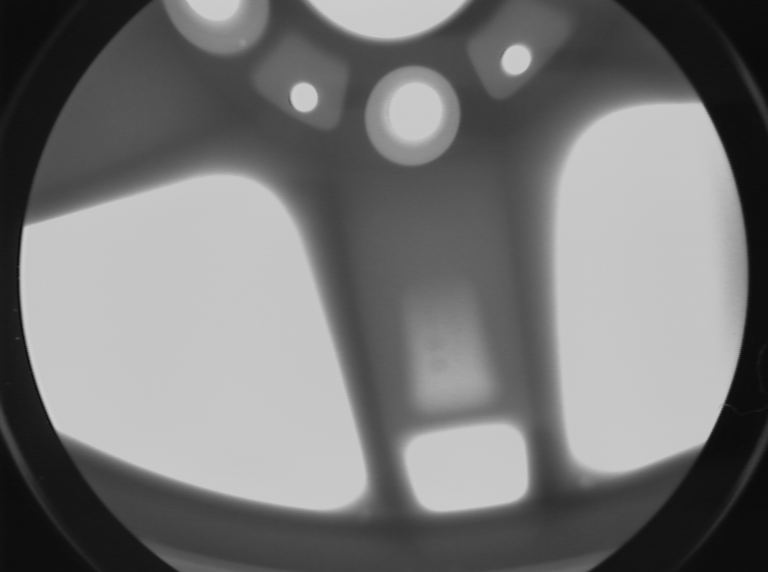defect: (237, 36, 251, 53)
